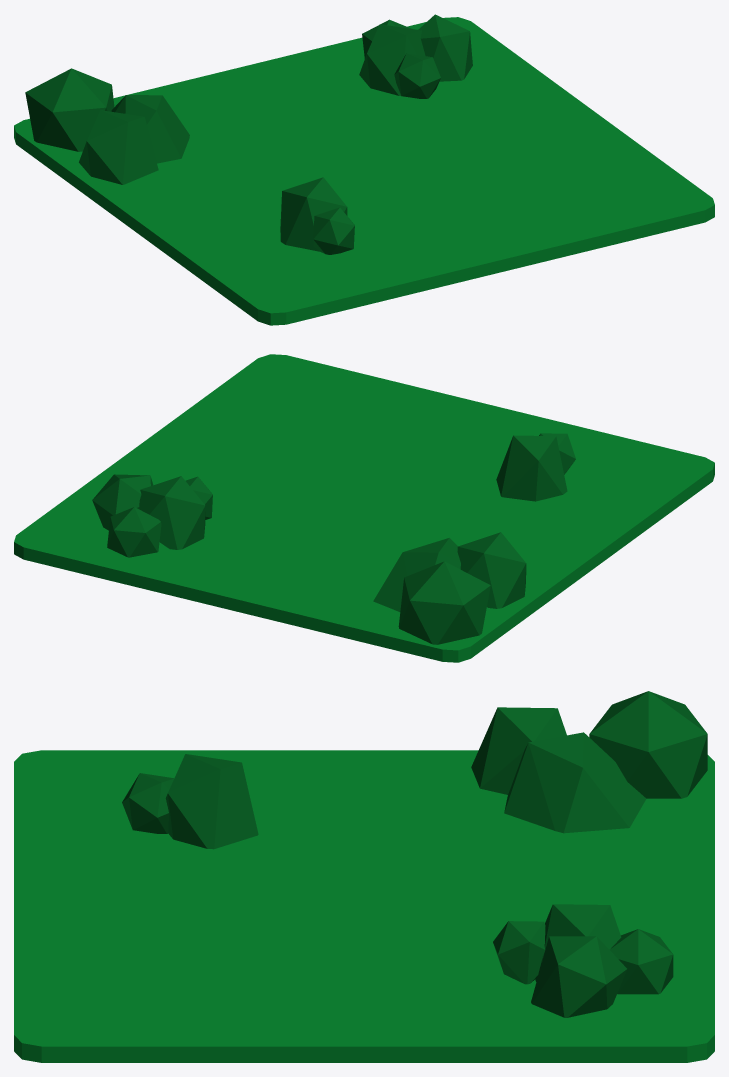
Rendered from garden1.fbx.
3 views of the same model, one above another, from view 1: azimuth 30°, elevation 25°; view 2: azimuth 150°, elevation 25°; view 3: azimuth 270°, elevation 25° (orthographic). The views are drawn at different scales.
Parts seen in each view (by area): view 1: garden1; view 2: garden1; view 3: garden1.
Part boxes in pixels (x1=…): garden1: x1=14, y1=14, x2=714, y2=325; garden1: x1=14, y1=354, x2=714, y2=662; garden1: x1=14, y1=691, x2=714, y2=1062.
Bounding box in the file's own units: 1272 × 205 × 1272.
